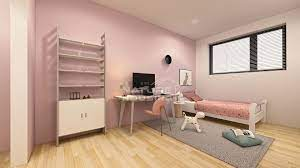Bed: (175, 88, 270, 131)
Chair: (145, 93, 175, 137)
Table: (114, 92, 181, 133)
